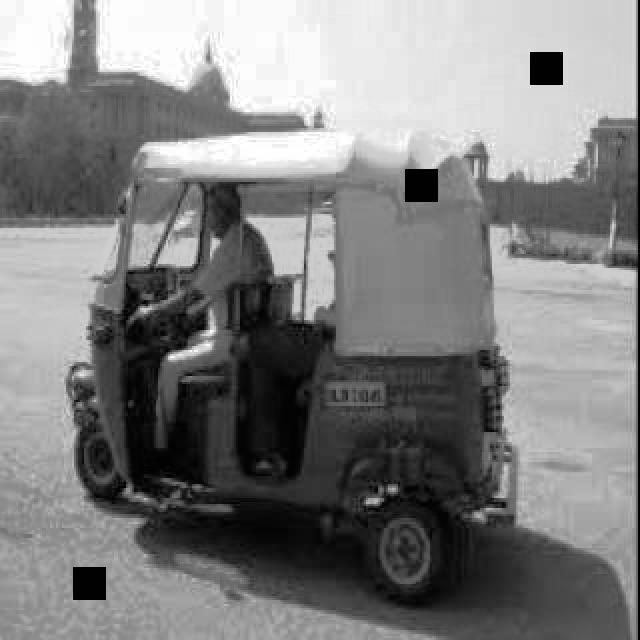Auto-Rickshaw: (74, 126, 524, 600)
